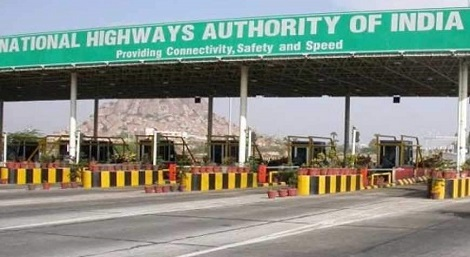toll plaza: (1, 8, 465, 95)
